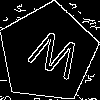W: (23, 28, 84, 89)
